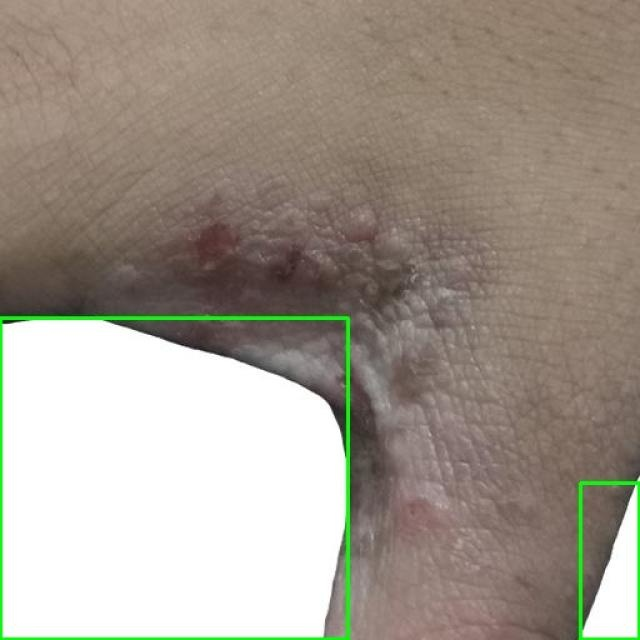Scabies: (0, 318, 348, 639), (580, 482, 639, 639)
